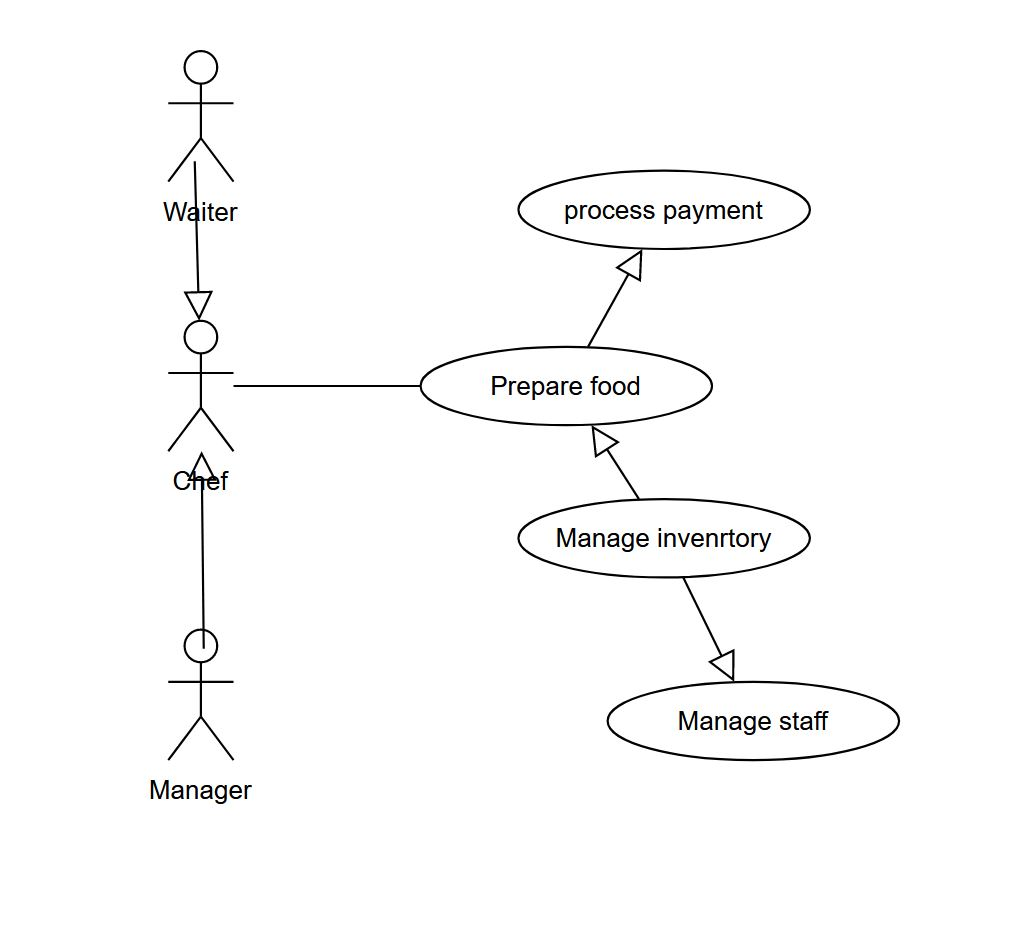actor: (161, 627, 242, 764), (159, 319, 237, 455), (164, 48, 238, 183)
association: (232, 375, 419, 396)
generalization: (589, 248, 645, 346), (683, 578, 735, 682), (189, 452, 212, 646), (186, 162, 211, 317), (587, 425, 638, 500)
text: (549, 523, 772, 555), (561, 197, 767, 227), (668, 705, 832, 742), (484, 370, 645, 401), (139, 775, 256, 805), (159, 195, 240, 224), (174, 473, 235, 492)
use_case: (606, 681, 901, 761), (514, 169, 812, 248), (520, 499, 809, 577), (421, 346, 712, 423)
